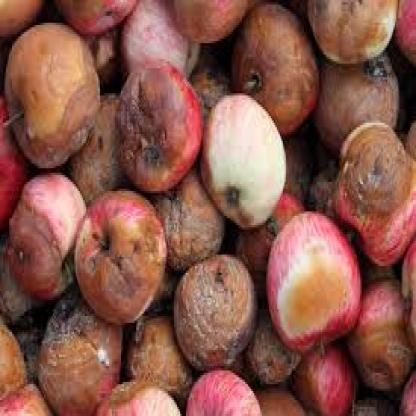damaged_apple: (266, 200, 357, 341), (74, 188, 168, 312), (115, 59, 201, 187), (201, 96, 286, 225), (336, 118, 410, 264), (6, 34, 92, 150), (4, 175, 88, 293), (176, 250, 258, 366), (235, 7, 314, 127), (39, 291, 121, 400), (313, 45, 396, 150), (115, 302, 198, 400), (152, 166, 228, 266)
